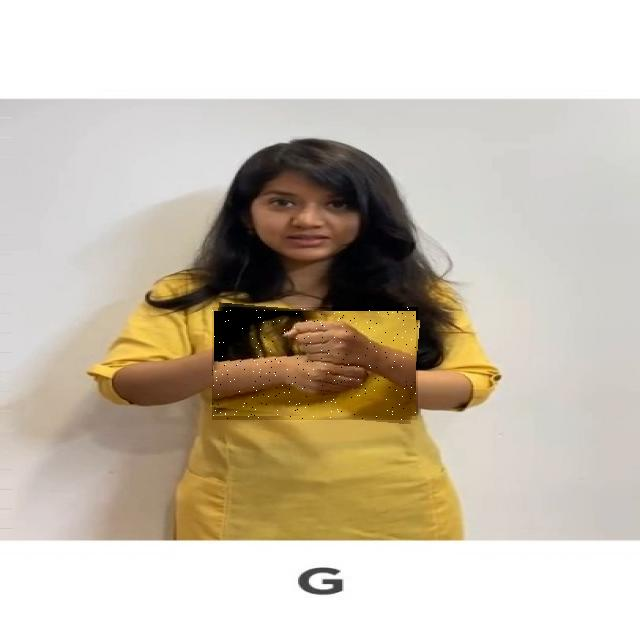G: (212, 307, 418, 420)
